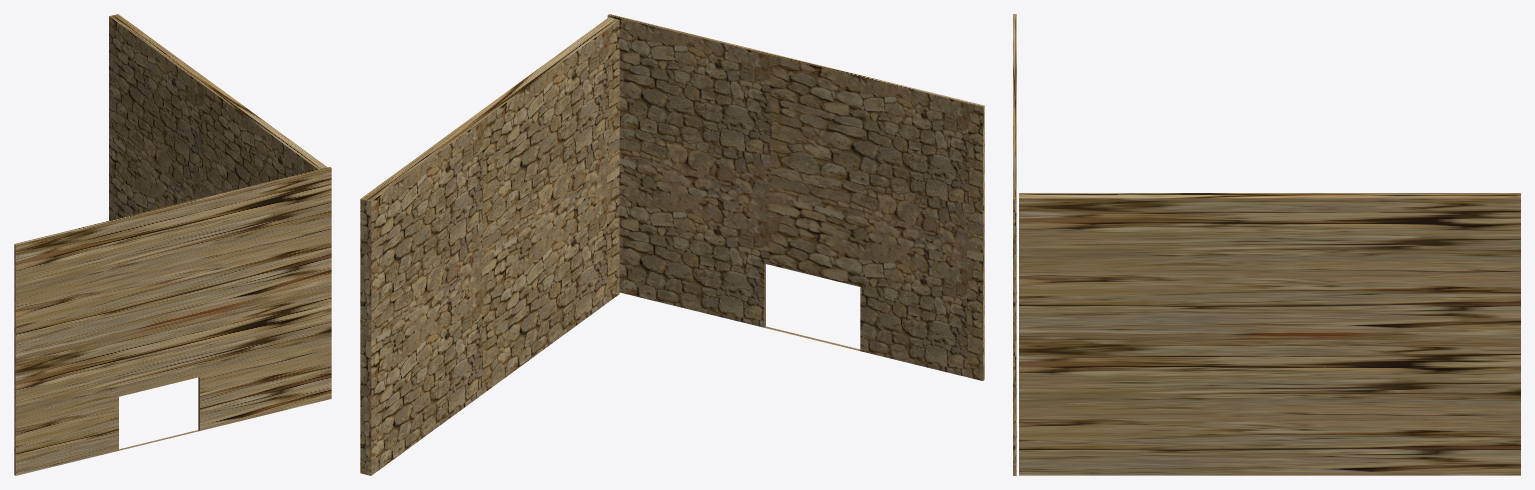
Rendered from paredes.fbx.
The picture shows the model from 3 angles, left to right: view 1: azimuth 30°, elevation 25°; view 2: azimuth 150°, elevation 25°; view 3: azimuth 270°, elevation 25°; orthographic projection. The views are drawn at different scales.
Visible parts, largest first — view 1: Cube.005, Cube.004; view 2: Cube.005, Cube.004; view 3: Cube.004, Cube.005.
Boxes of the visible parts, left/top/right/bottom form: Cube.005: left=14, top=167, right=331, bottom=475; Cube.004: left=109, top=14, right=327, bottom=220; Cube.005: left=607, top=14, right=984, bottom=380; Cube.004: left=360, top=17, right=619, bottom=475; Cube.004: left=1019, top=193, right=1520, bottom=475; Cube.005: left=1013, top=14, right=1016, bottom=475.
Size of the model in its own units: 1721 by 1205 by 1997.
